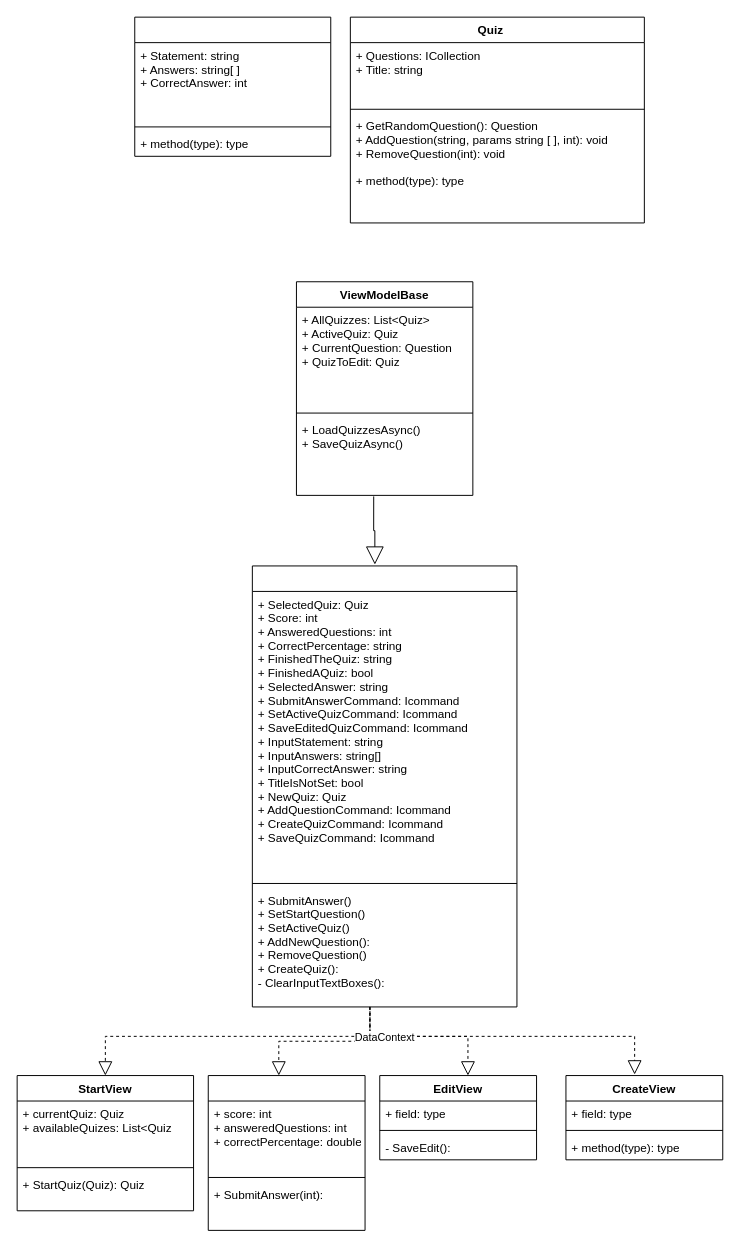
This 740x1250 diagram has some shape labels left out. The shapes that lost their labels are listed below. From the top down, each one's box as (x1, y1, x2, y2) in pixels, then its label:
(134, 16, 331, 156): Question
(251, 565, 517, 1007): PlayViewModel
(207, 1075, 365, 1230): PlayView
